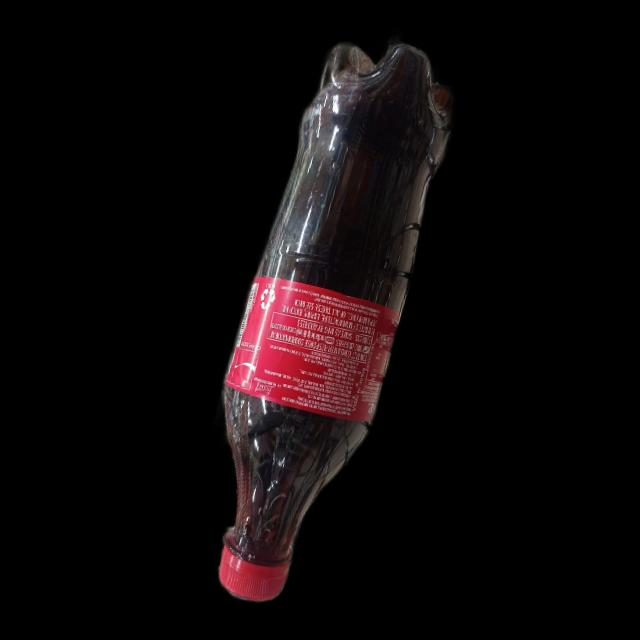Coca-Cola-600 ml-: (162, 12, 474, 627)
